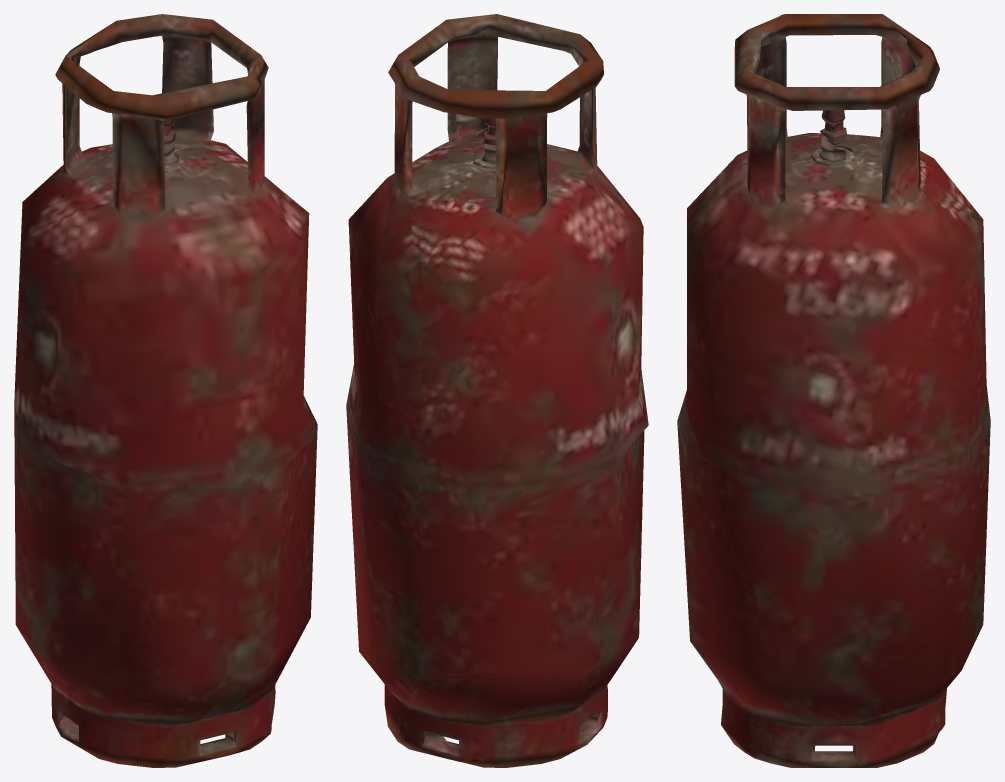
The model's file is p_lpg.glb.
3 views of the same model, side by side, from view 1: azimuth 30°, elevation 25°; view 2: azimuth 150°, elevation 25°; view 3: azimuth 270°, elevation 25° (orthographic).
Visible parts, largest first — view 1: LPG Gas Cylinder_M_GasCylinder_0; view 2: LPG Gas Cylinder_M_GasCylinder_0; view 3: LPG Gas Cylinder_M_GasCylinder_0.
Boxes of the visible parts, <box> form: LPG Gas Cylinder_M_GasCylinder_0: <box>14,14,317,767</box>; LPG Gas Cylinder_M_GasCylinder_0: <box>346,14,648,767</box>; LPG Gas Cylinder_M_GasCylinder_0: <box>677,14,990,767</box>.
Size of the model in its own units: 0.3689 by 0.8867 by 0.3727.
1 material, 1 textured.
